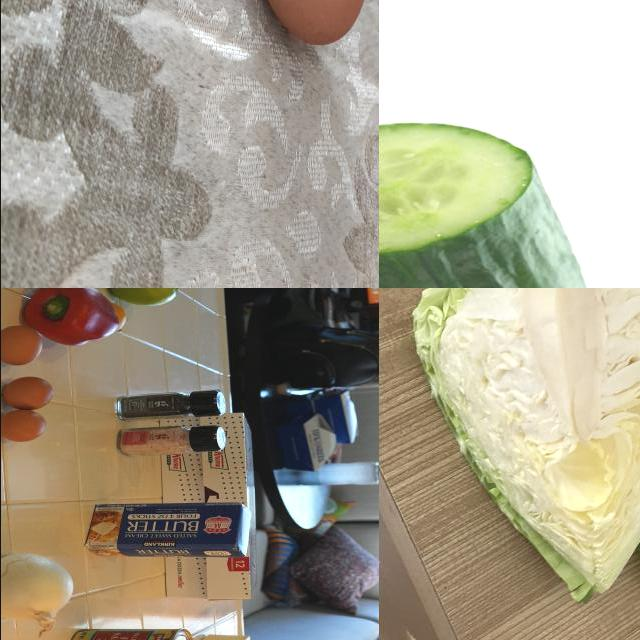bell_pepper: (21, 289, 114, 354), (110, 388, 228, 426)
cabbage: (408, 289, 640, 602)
cucumber: (379, 121, 612, 289)
egg: (246, 1, 375, 50), (1, 377, 57, 410), (1, 327, 45, 368), (1, 410, 48, 444)
onion: (1, 547, 77, 634)
